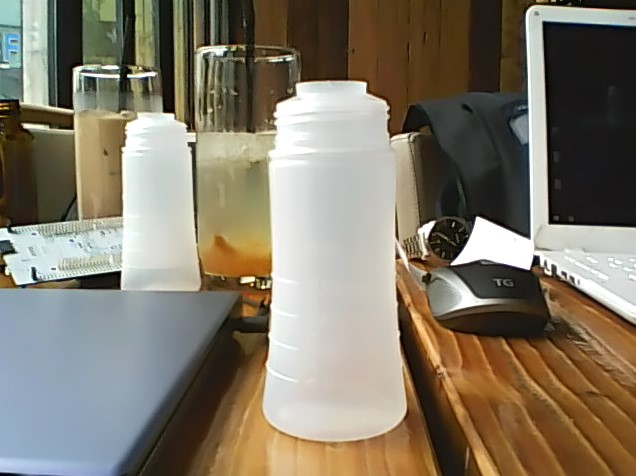Plastic: (258, 75, 413, 443)
